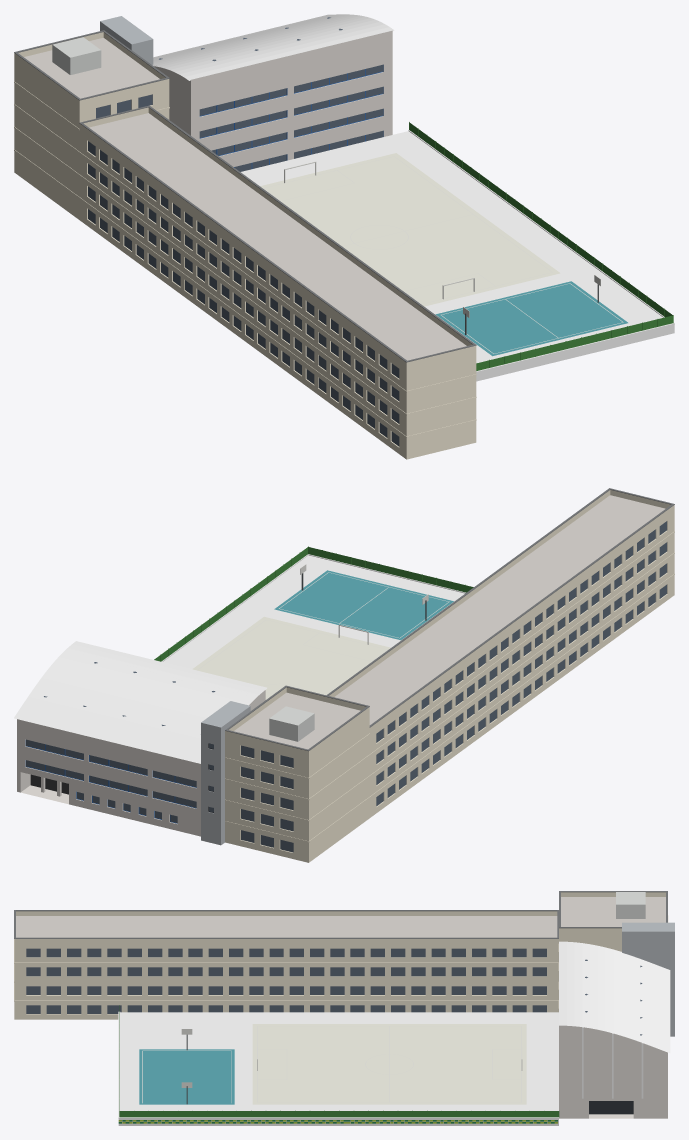
Rendered from school410r.glb.
3 views of the same model, one above another, from view 1: azimuth 30°, elevation 25°; view 2: azimuth 150°, elevation 25°; view 3: azimuth 270°, elevation 25° (orthographic). The views are drawn at different scales.
Visible parts, largest first — view 1: School410; view 2: School410; view 3: School410.
Boxes of the visible parts, x1=… form: School410: x1=14, y1=14, x2=674, y2=459; School410: x1=14, y1=488, x2=674, y2=862; School410: x1=14, y1=891, x2=674, y2=1125.
Bounding box in the file's own units: 53.51 × 20.3 × 111.
